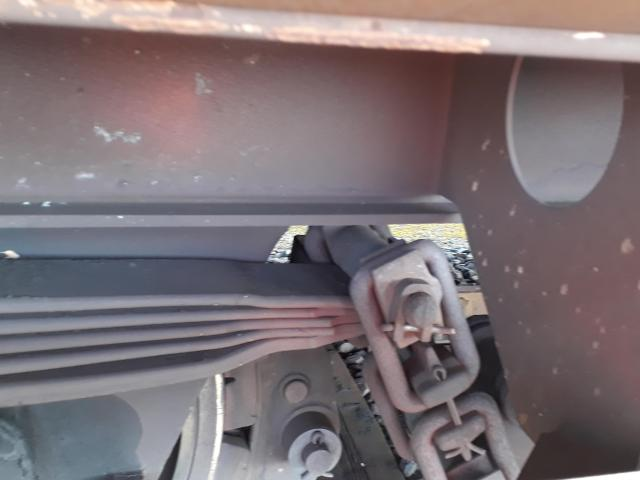blattfederww: (1, 264, 340, 387)
